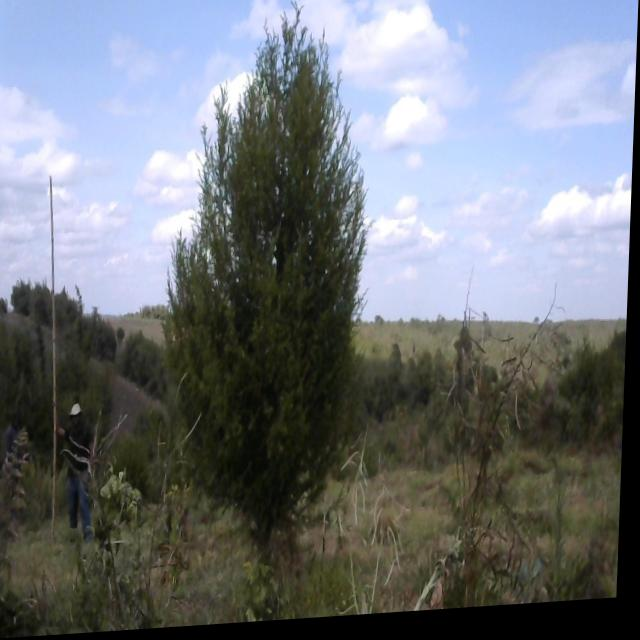cedrus: (152, 0, 392, 541)
